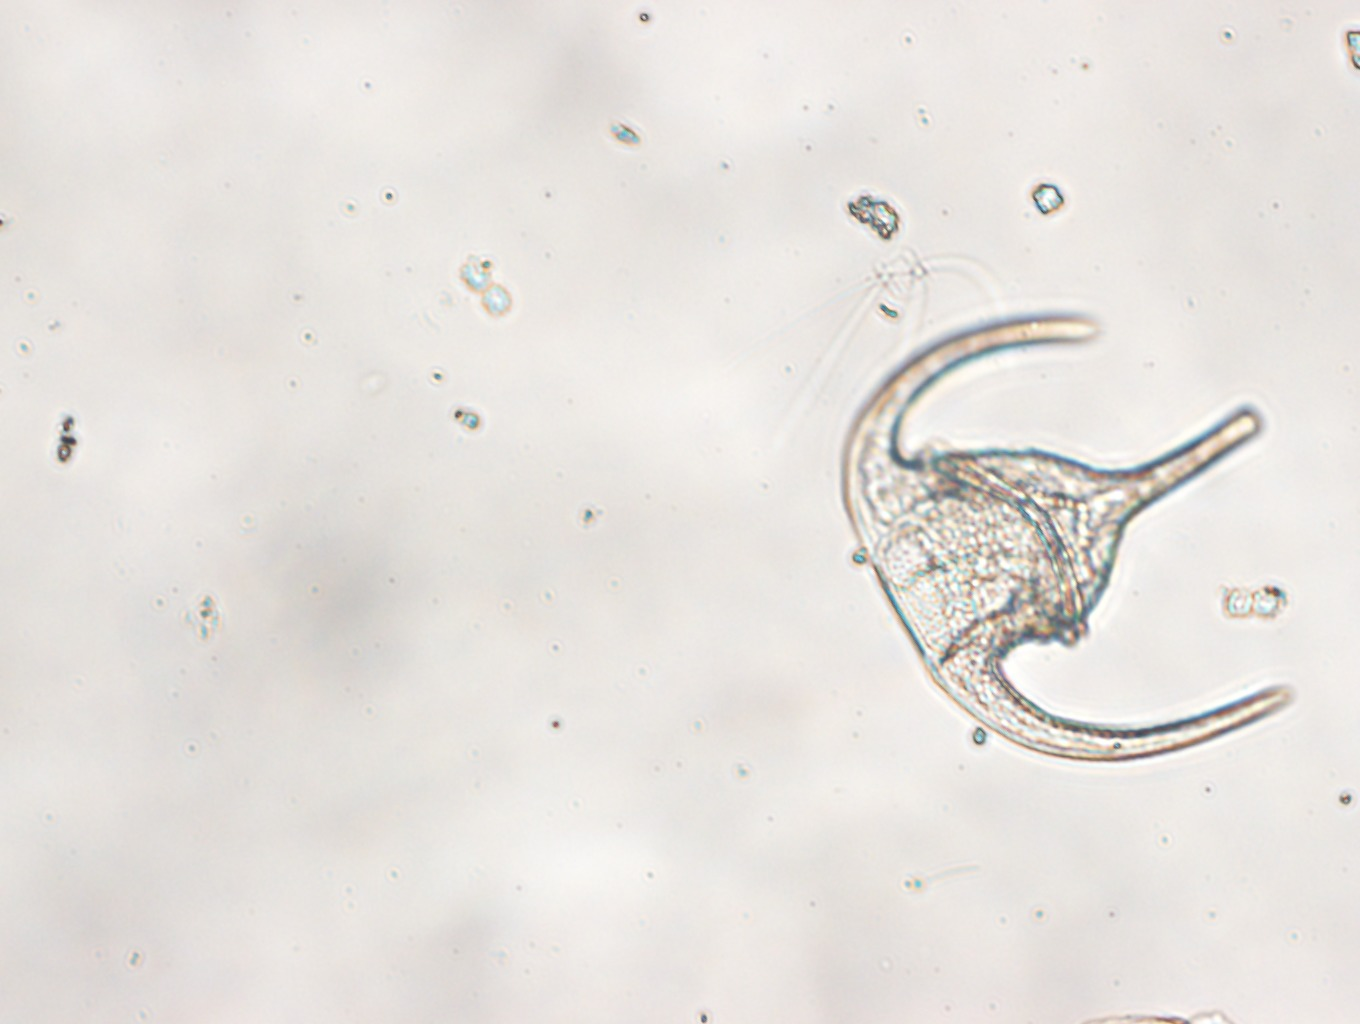ceratium tripos: (836, 313, 1298, 762)
